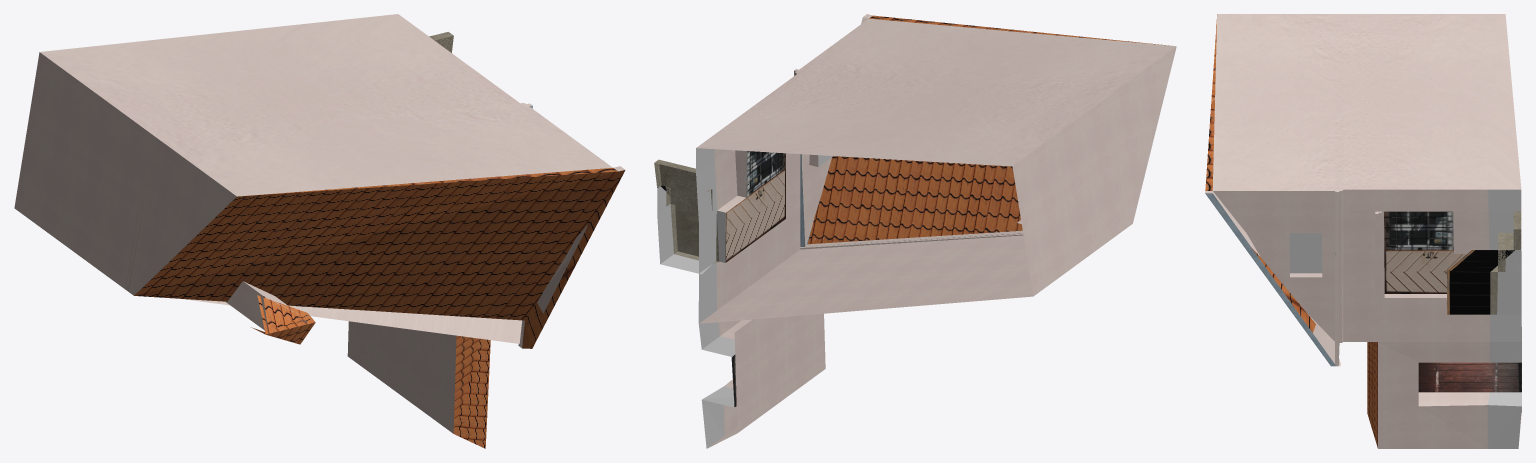
Rendered from Ryytli_20-origo.obj.
The picture shows the model from 3 angles, left to right: view 1: azimuth 30°, elevation 25°; view 2: azimuth 150°, elevation 25°; view 3: azimuth 270°, elevation 25°; orthographic projection. The views are drawn at different scales.
Visible parts, largest first — view 1: Ryytli_20, xxx; view 2: Ryytli_20, xxx; view 3: Ryytli_20, xxx.
Boxes of the visible parts, x1=… form: Ryytli_20: x1=14, y1=32, x2=625, y2=448; xxx: x1=40, y1=14, x2=617, y2=196; Ryytli_20: x1=654, y1=14, x2=1176, y2=448; xxx: x1=696, y1=15, x2=1175, y2=448; Ryytli_20: x1=1205, y1=189, x2=1521, y2=448; xxx: x1=1205, y1=14, x2=1521, y2=441.
Bounding box in the file's own units: 7.75 × 7 × 6.54.
